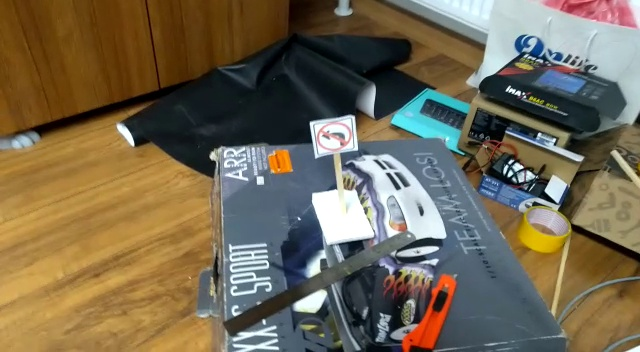sola_donulmez: (314, 119, 353, 154)
